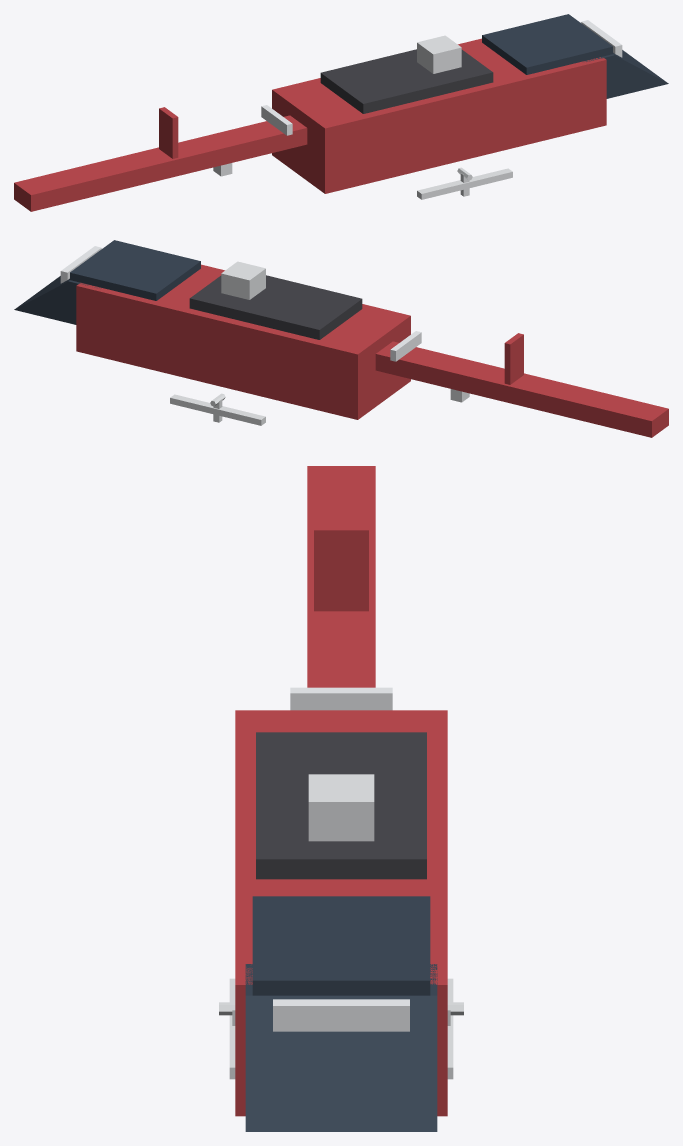
File: SM_Veh_Heli.fbx
The picture shows the model from 3 angles, top to bottom: view 1: azimuth 30°, elevation 25°; view 2: azimuth 150°, elevation 25°; view 3: azimuth 270°, elevation 25°; orthographic projection. The views are drawn at different scales.
Visible parts, largest first — view 1: SM_Veh_Heli; view 2: SM_Veh_Heli; view 3: SM_Veh_Heli.
Boxes of the visible parts, x1,y1,x2,y2 form: SM_Veh_Heli: [14, 14, 668, 211]; SM_Veh_Heli: [14, 240, 668, 437]; SM_Veh_Heli: [219, 466, 463, 1131].
Bounding box in the file's own units: 1093 × 186 × 220.
